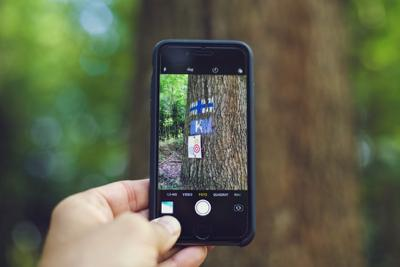Mobile Phone: (147, 38, 256, 247)
